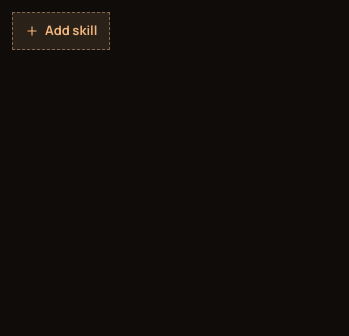
SearchMultiSelect › leaves the field after a pick with blurOnPick
The image size is (349, 336).
Click the button "Add skill". click: (61, 31)
box: x1=12 y1=12 x2=110 y2=50
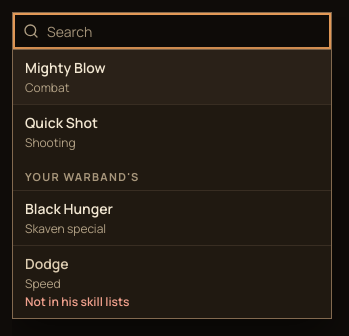
Type "black" into the dropdown named "Add skill". click: (184, 31)
box: x1=47 y1=13 x2=321 y2=49
Then press Enter
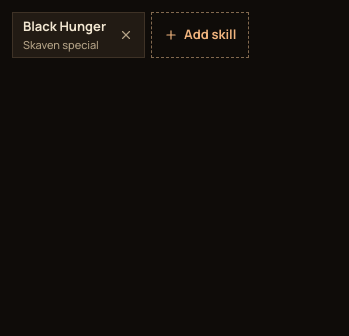
Expected: the text "Black Hunger" is shown, x1=23 y1=17 x2=106 y2=36
Expected: the dropdown is gone
Expected: the button "Add skill" is shown, x1=151 y1=12 x2=249 y2=58
